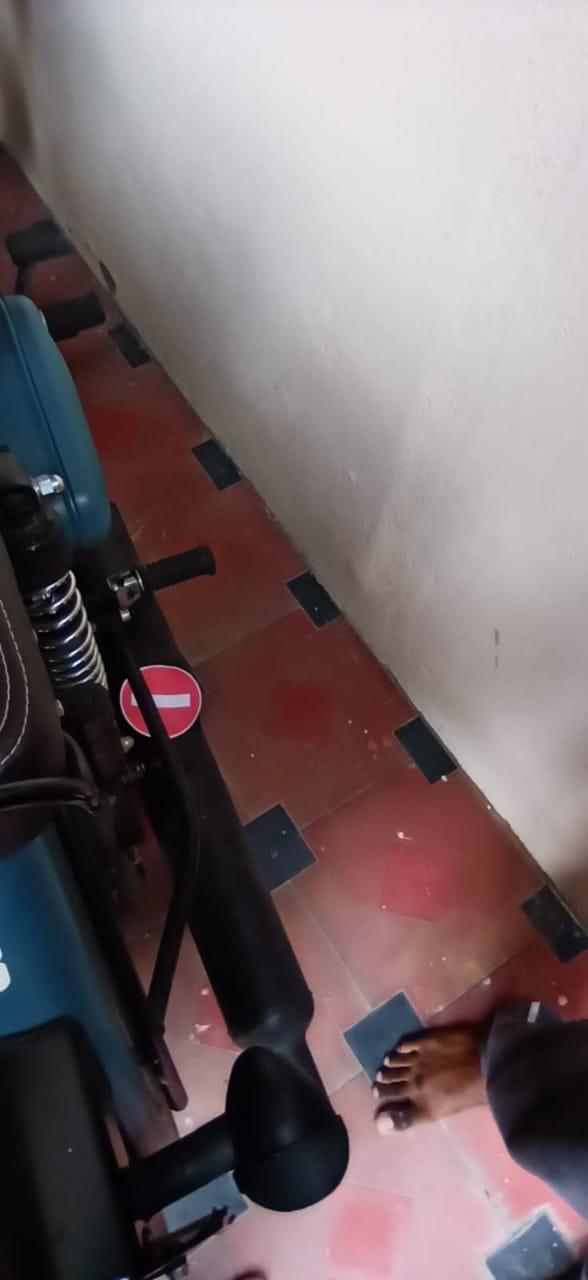NO ENTRY: (105, 644, 209, 752)
